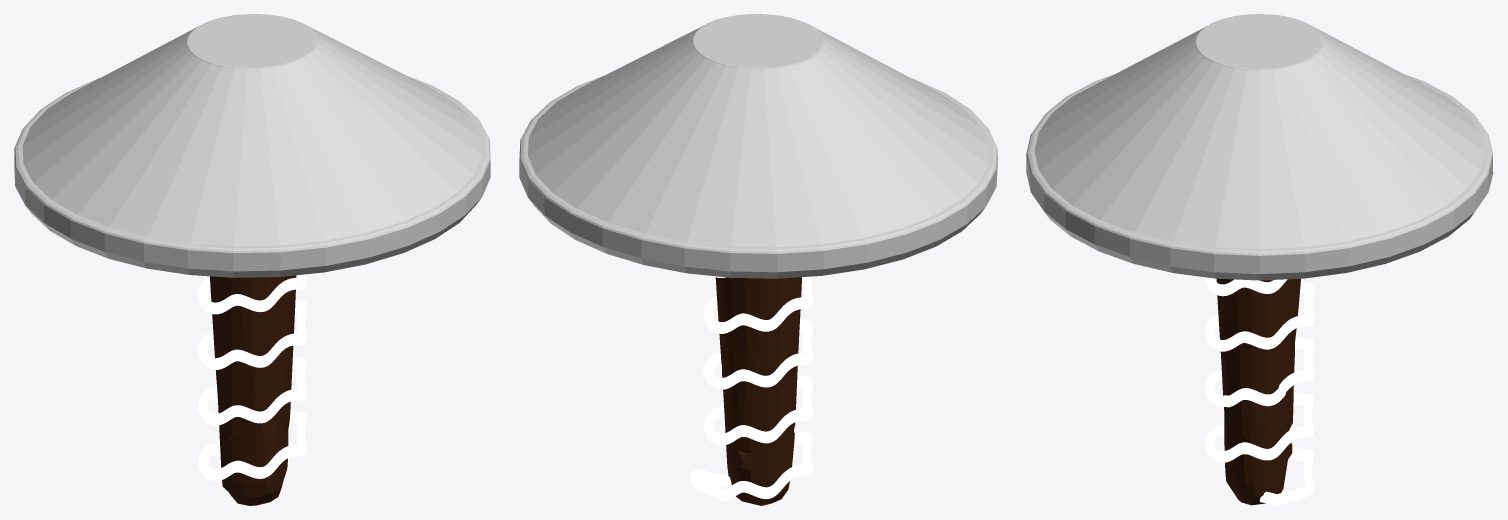
The model's file is mushroom.glb.
3 renders of one model, left to right at view 1: azimuth 30°, elevation 25°; view 2: azimuth 150°, elevation 25°; view 3: azimuth 270°, elevation 25°, orthographic.
Parts seen in each view (by area): view 1: Cylinder, Sphere, Spiral.002; view 2: Cylinder, Sphere, Spiral.002; view 3: Cylinder, Sphere, Spiral.002.
Part boxes in pixels (x1,y1,x2,y2): Cylinder: (14, 14, 490, 277); Sphere: (210, 275, 296, 505); Spiral.002: (197, 274, 307, 480); Cylinder: (519, 14, 997, 278); Sphere: (715, 277, 801, 505); Spiral.002: (690, 276, 813, 501); Cylinder: (1026, 14, 1493, 280); Sphere: (1216, 278, 1300, 505); Spiral.002: (1205, 277, 1315, 505).
Size of the model in its own units: 14.75 by 15.56 by 14.34.
